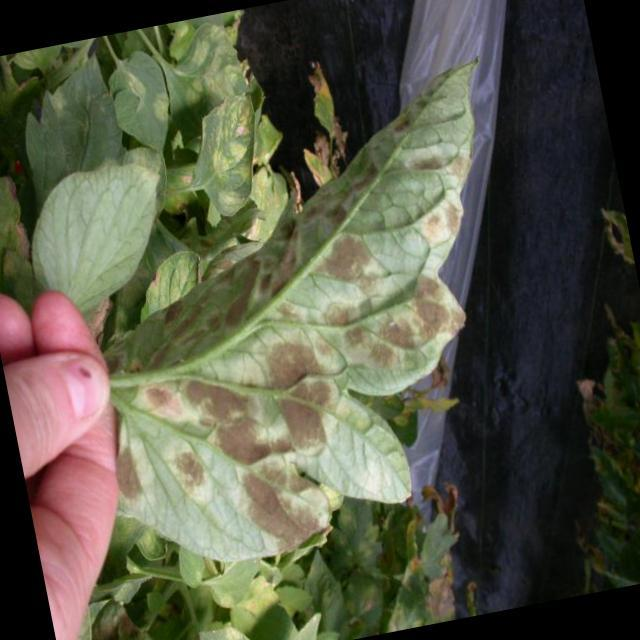Leaf Mold: (78, 187, 571, 573)
